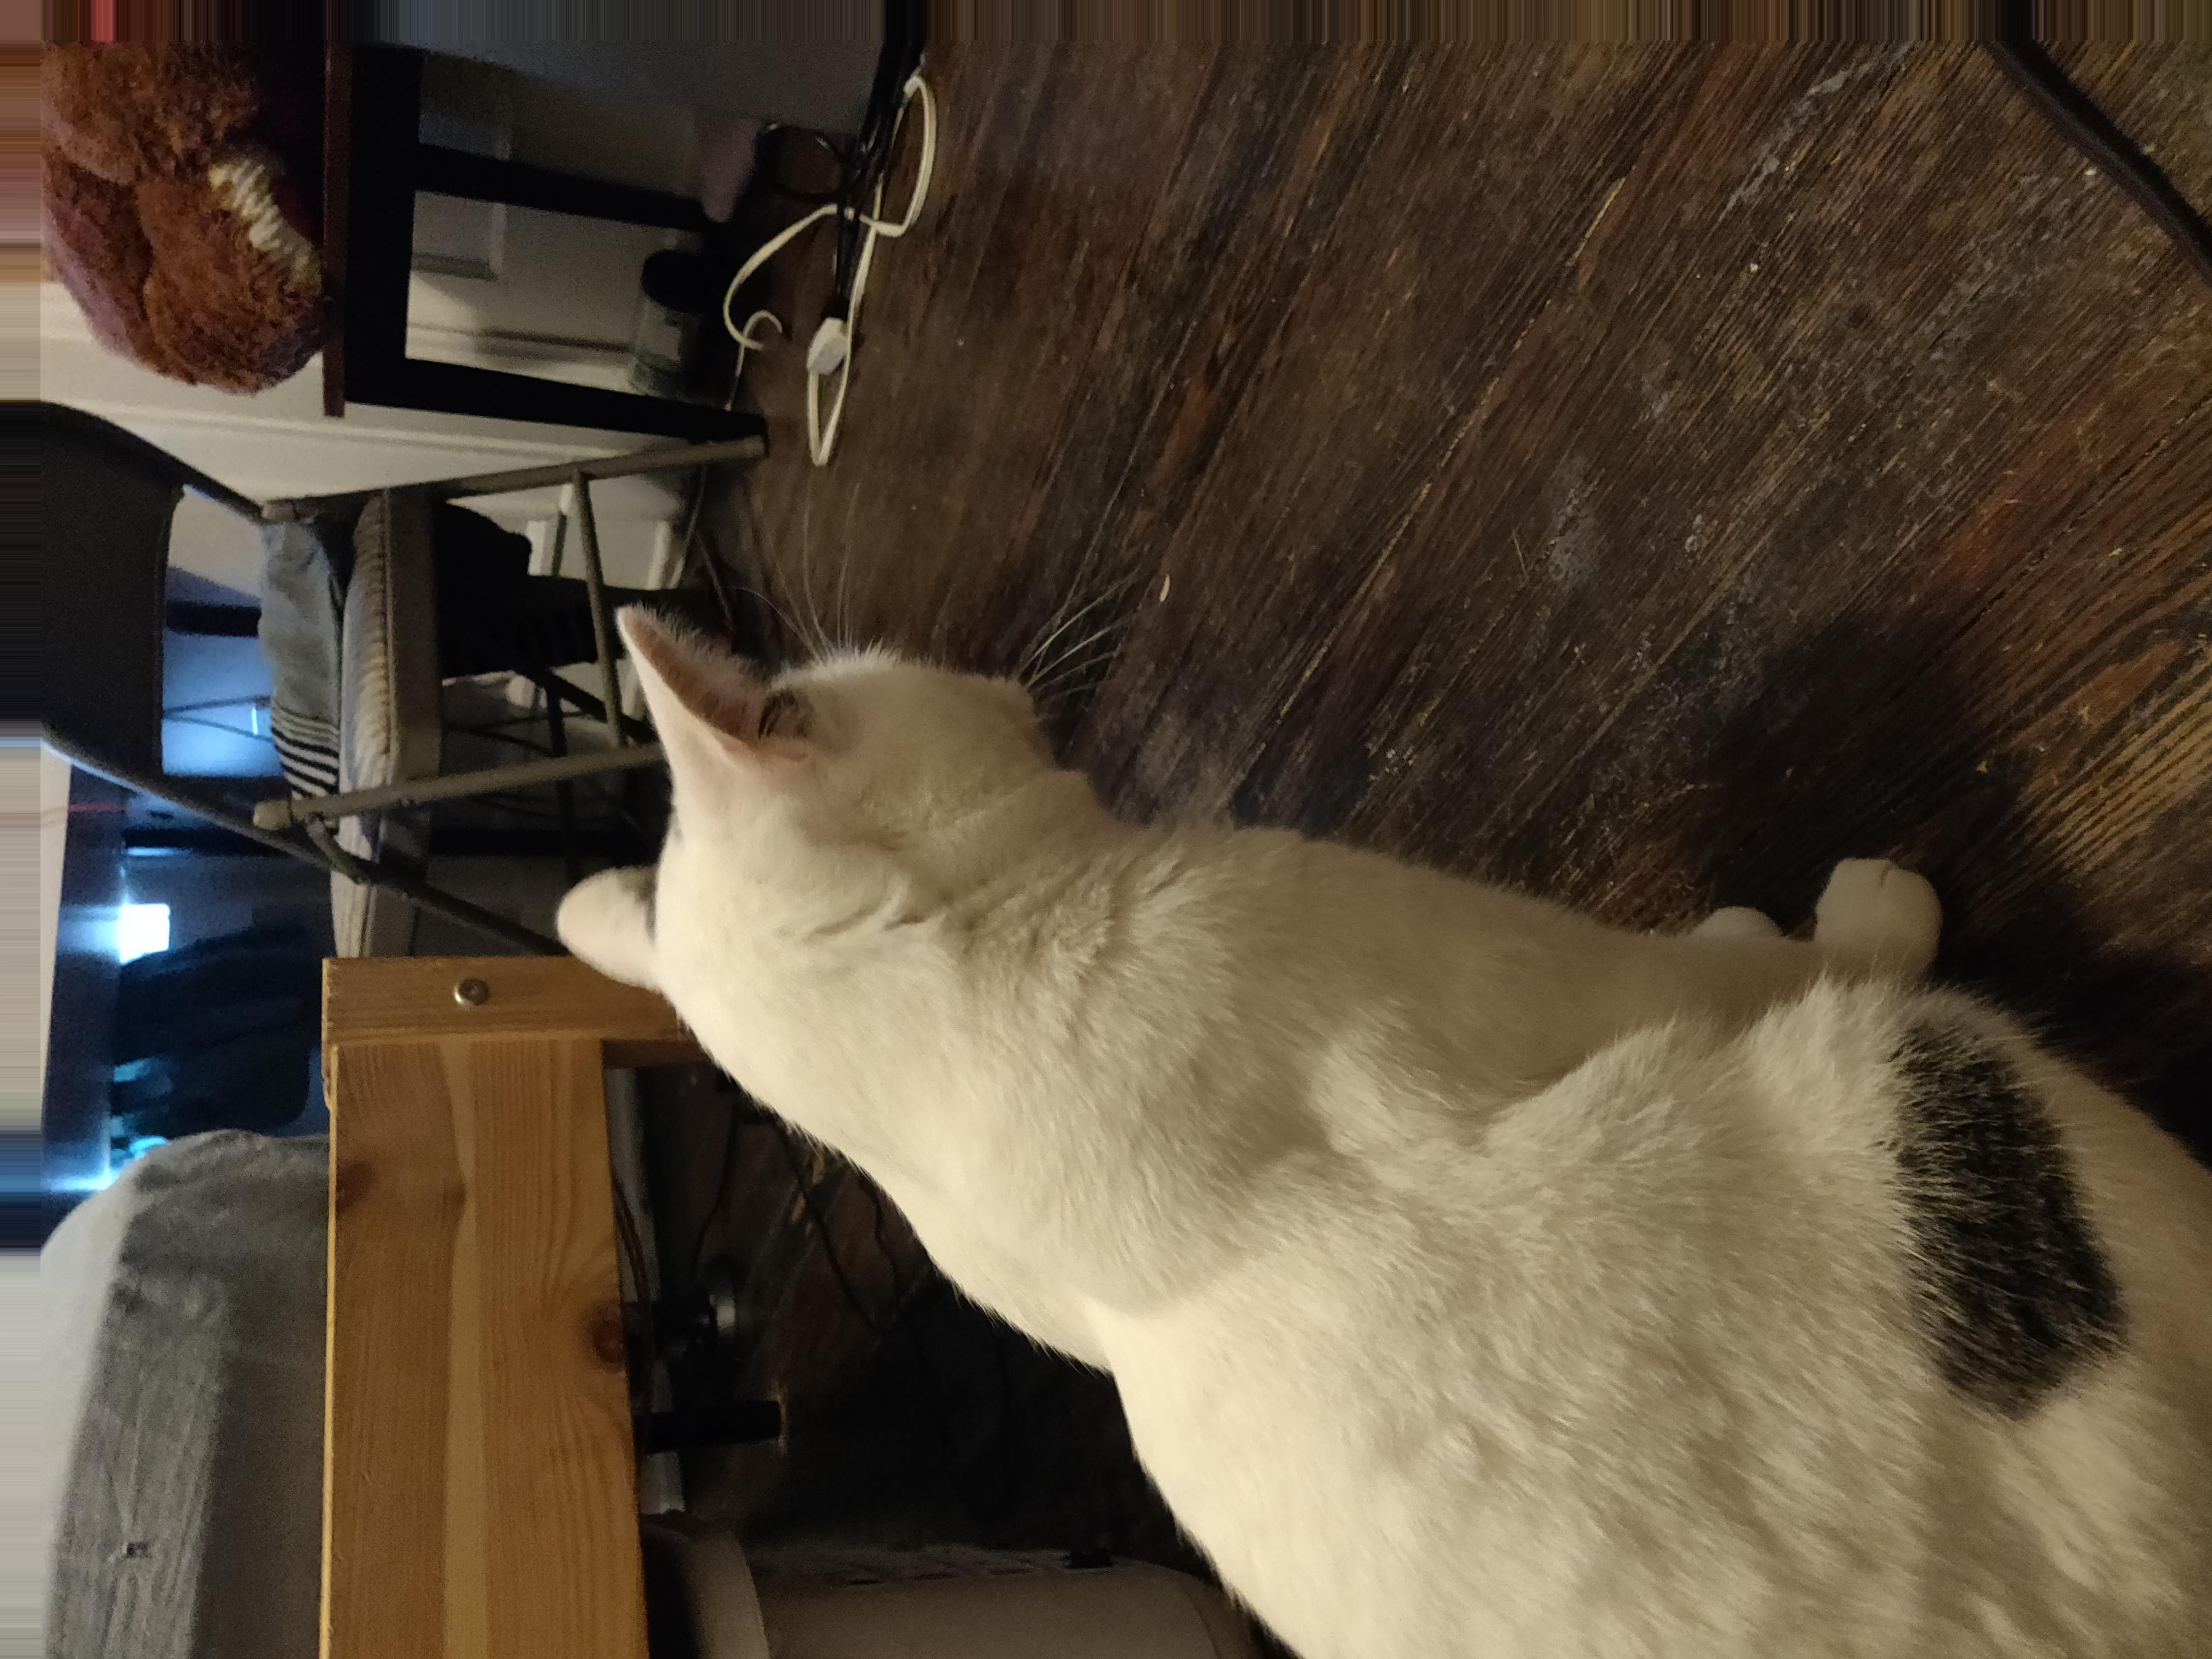cat: (606, 578, 2212, 1626)
